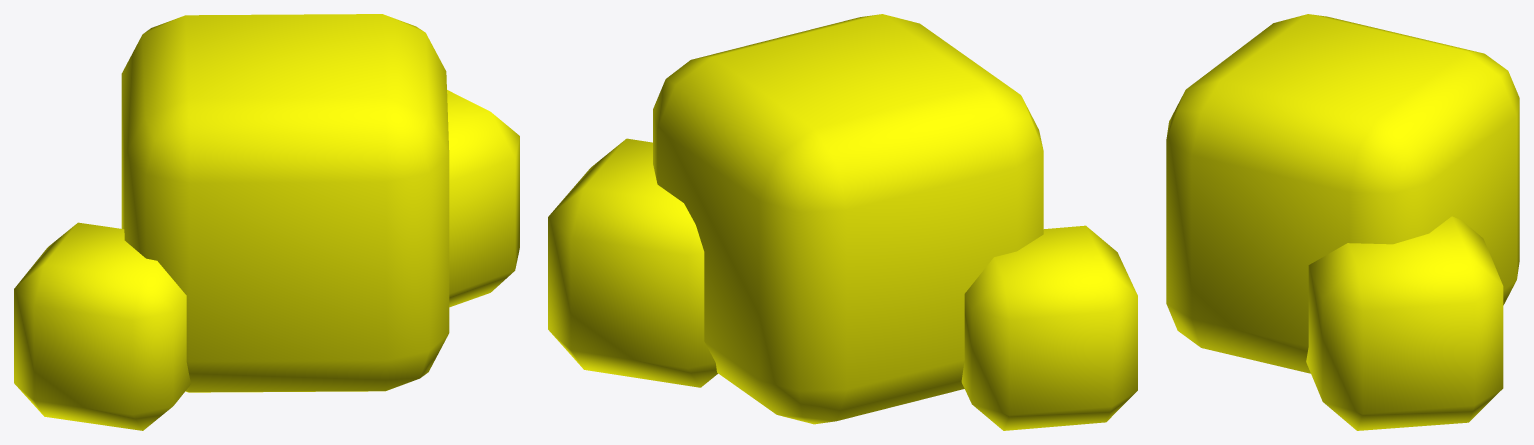
Rendered from kaykit-bush-2-d-color-1.glb.
The picture shows the model from 3 angles, left to right: view 1: azimuth 30°, elevation 25°; view 2: azimuth 150°, elevation 25°; view 3: azimuth 270°, elevation 25°; orthographic projection. The views are drawn at different scales.
Parts seen in each view (by area): view 1: Bush_2_D_Color1; view 2: Bush_2_D_Color1; view 3: Bush_2_D_Color1.
Boxes of the visible parts, x1=… form: Bush_2_D_Color1: x1=14, y1=14, x2=519, y2=430; Bush_2_D_Color1: x1=548, y1=14, x2=1137, y2=430; Bush_2_D_Color1: x1=1166, y1=14, x2=1519, y2=430.
Size of the model in its own units: 1.57 by 0.858 by 1.02.
